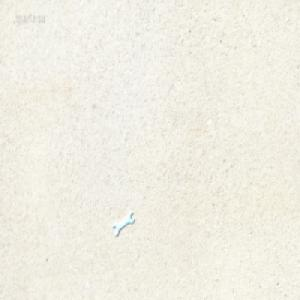Wrench: (112, 211, 134, 238)
